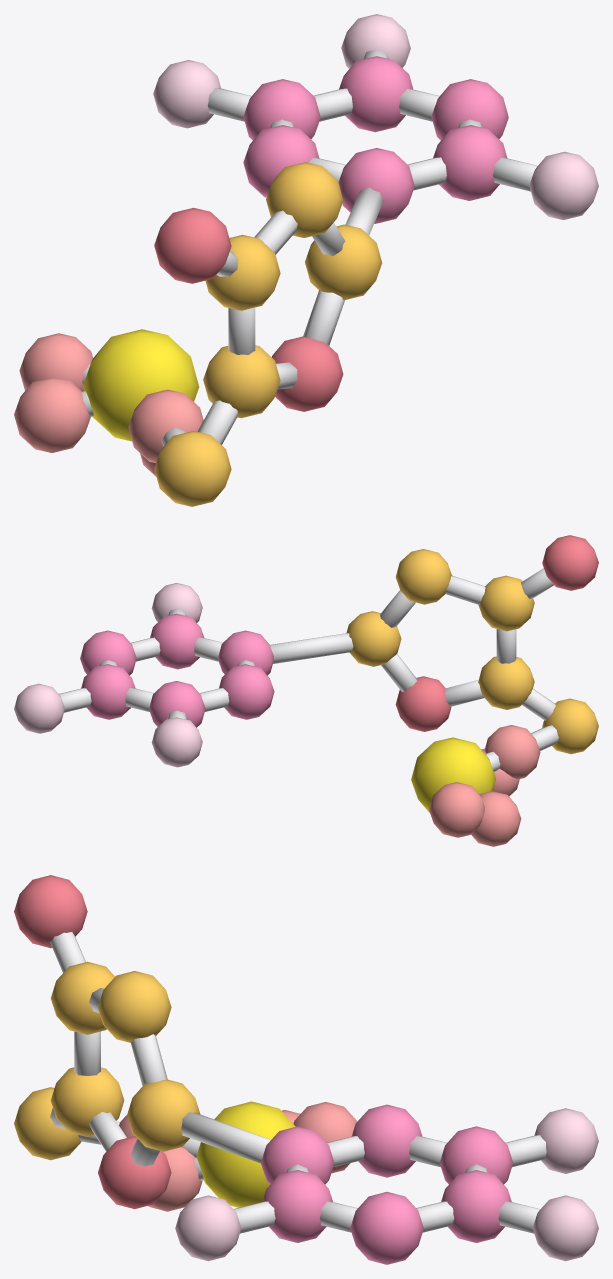
The model's file is Nucleotide_Thymine.glb.
The picture shows the model from 3 angles, top to bottom: view 1: azimuth 30°, elevation 25°; view 2: azimuth 150°, elevation 25°; view 3: azimuth 270°, elevation 25°; orthographic projection. The views are drawn at different scales.
Visible parts, largest first — view 1: Base_T_Ring, Sugar_Carbon, Phosphate_Oxygen, Base_T_Edge, Sugar_Oxygen, Phosphate_Phosphorus, Base_T_Bonds, Sugar_Bonds; view 2: Base_T_Ring, Sugar_Carbon, Phosphate_Oxygen, Base_T_Edge, Sugar_Bonds, Sugar_Oxygen, Base_T_Bonds, Phosphate_Phosphorus, Phosphate_Bonds; view 3: Base_T_Ring, Sugar_Carbon, Base_T_Edge, Base_T_Bonds, Sugar_Oxygen, Sugar_Bonds, Phosphate_Phosphorus, Phosphate_Oxygen.
Part boxes in pixels (x1,y1,x2,y2): Base_T_Ring: (243,56,508,223); Sugar_Carbon: (154,162,382,506); Phosphate_Oxygen: (14,333,203,476); Base_T_Edge: (153,14,598,219); Sugar_Oxygen: (154,207,343,411); Phosphate_Phosphorus: (83,329,199,441); Base_T_Bonds: (207,49,537,235); Sugar_Bonds: (197,210,345,444); Base_T_Ring: (80,613,274,727); Sugar_Carbon: (346,549,598,754); Phosphate_Oxygen: (429,725,540,846); Base_T_Edge: (14,583,202,767); Sugar_Bonds: (380,568,555,720); Sugar_Oxygen: (395,535,598,731); Base_T_Bonds: (59,608,353,719); Phosphate_Phosphorus: (411,737,496,812); Phosphate_Bonds: (485,725,558,771); Base_T_Ring: (261,1104,513,1264); Sugar_Carbon: (14,961,200,1160); Base_T_Edge: (175,1108,598,1261); Base_T_Bonds: (181,1112,546,1233); Sugar_Oxygen: (14,875,171,1209); Sugar_Bonds: (50,932,167,1166); Phosphate_Phosphorus: (196,1101,295,1207); Phosphate_Oxygen: (119,1102,357,1211).
Size of the model in its own units: 0.0802 by 0.0463 by 0.0794.
